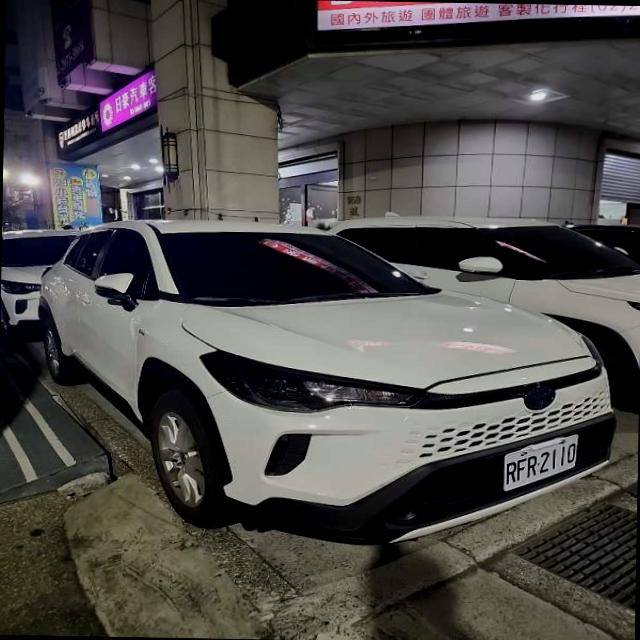license plate: (502, 435, 576, 491)
wheel: (148, 390, 227, 527)
